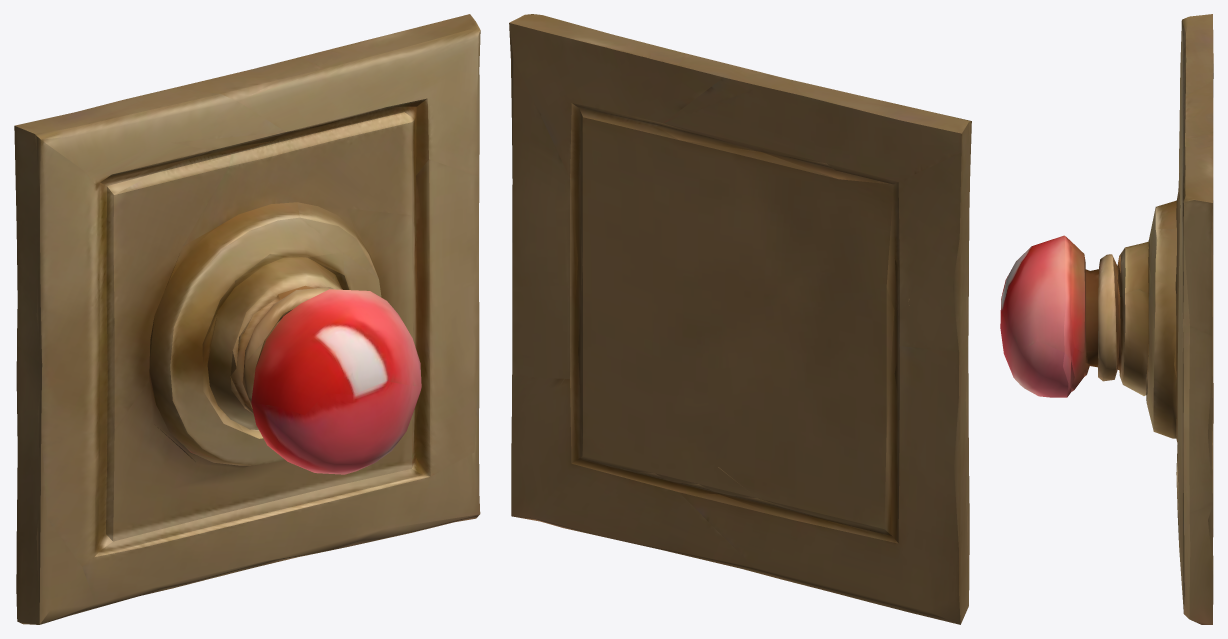
The model's file is wallLeverV2.glb.
3 views of the same model, side by side, from view 1: azimuth 30°, elevation 25°; view 2: azimuth 150°, elevation 25°; view 3: azimuth 270°, elevation 25° (orthographic). The views are drawn at different scales.
Visible parts, largest first — view 1: model; view 2: model; view 3: model.
Boxes of the visible parts, left/top/right/bottom form: model: left=14, top=14, right=480, bottom=624; model: left=509, top=14, right=971, bottom=624; model: left=1000, top=14, right=1213, bottom=624.
Bounding box in the file's own units: 1.82 × 1.9 × 0.8637.
1 material, 1 textured.
